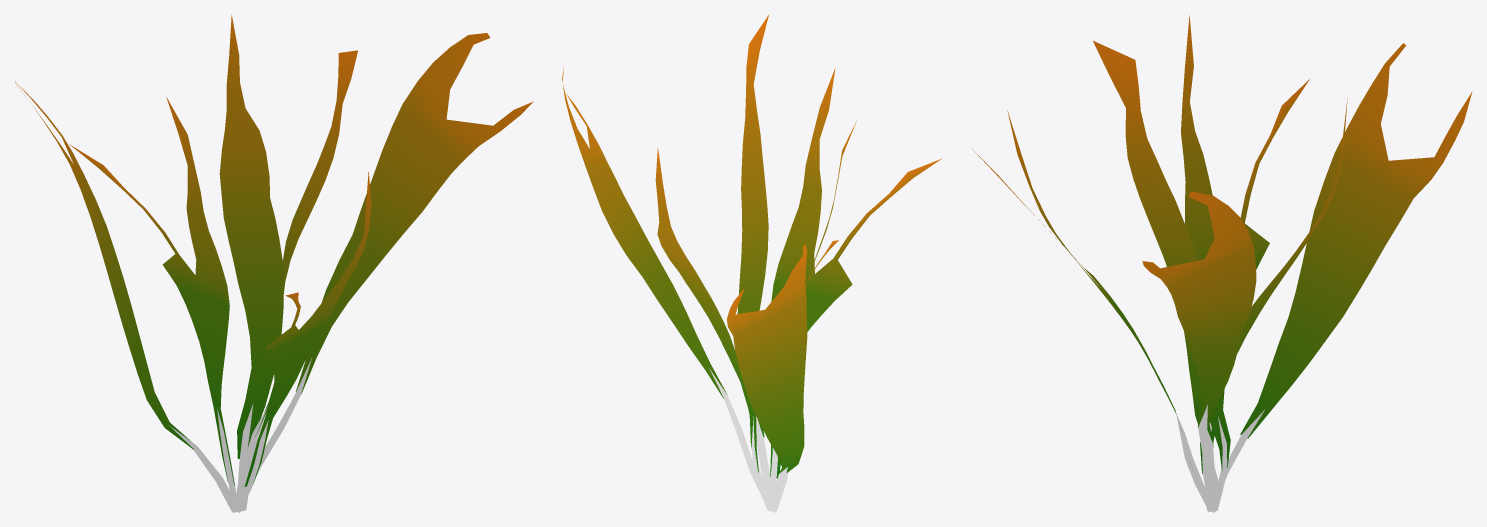
The model's file is sjglk_Var1_LOD0.fbx.
3 views of the same model, side by side, from view 1: azimuth 30°, elevation 25°; view 2: azimuth 150°, elevation 25°; view 3: azimuth 270°, elevation 25° (orthographic). The views are drawn at different scales.
Visible parts, largest first — view 1: _d109_Var1_LOD0; view 2: _d109_Var1_LOD0; view 3: _d109_Var1_LOD0.
Boxes of the visible parts, x1,y1,x2,y2 form: _d109_Var1_LOD0: (15,15,533,512); _d109_Var1_LOD0: (562,15,941,512); _d109_Var1_LOD0: (972,15,1472,512).
Bounding box in the file's own units: 84.25 × 101 × 91.13.
